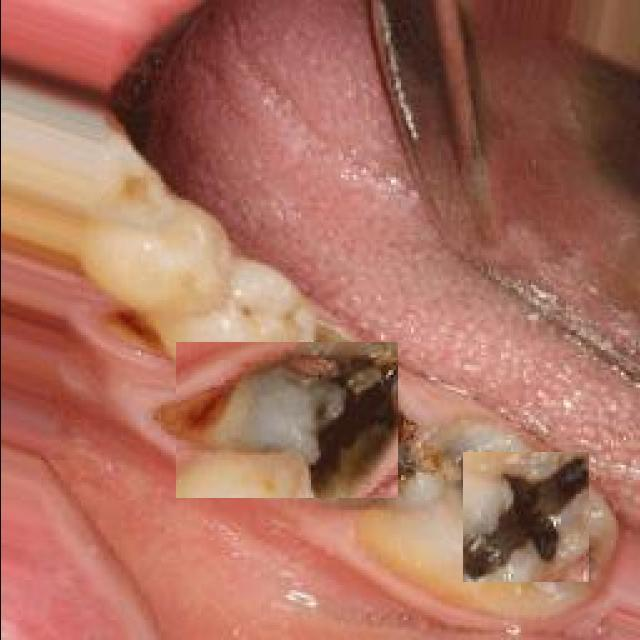caries: (175, 342, 397, 498), (462, 452, 588, 582)
